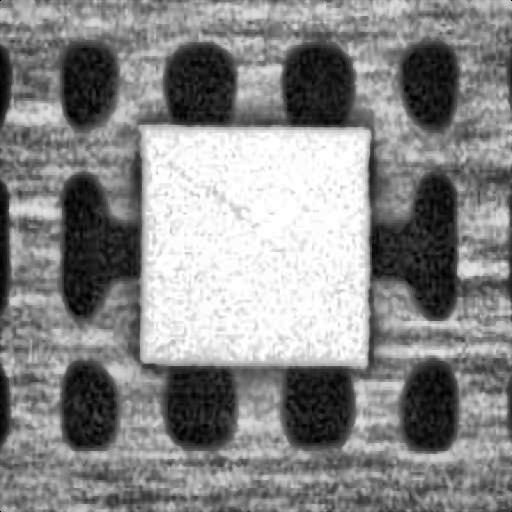DIE_CRACK: (149, 140, 282, 254)
